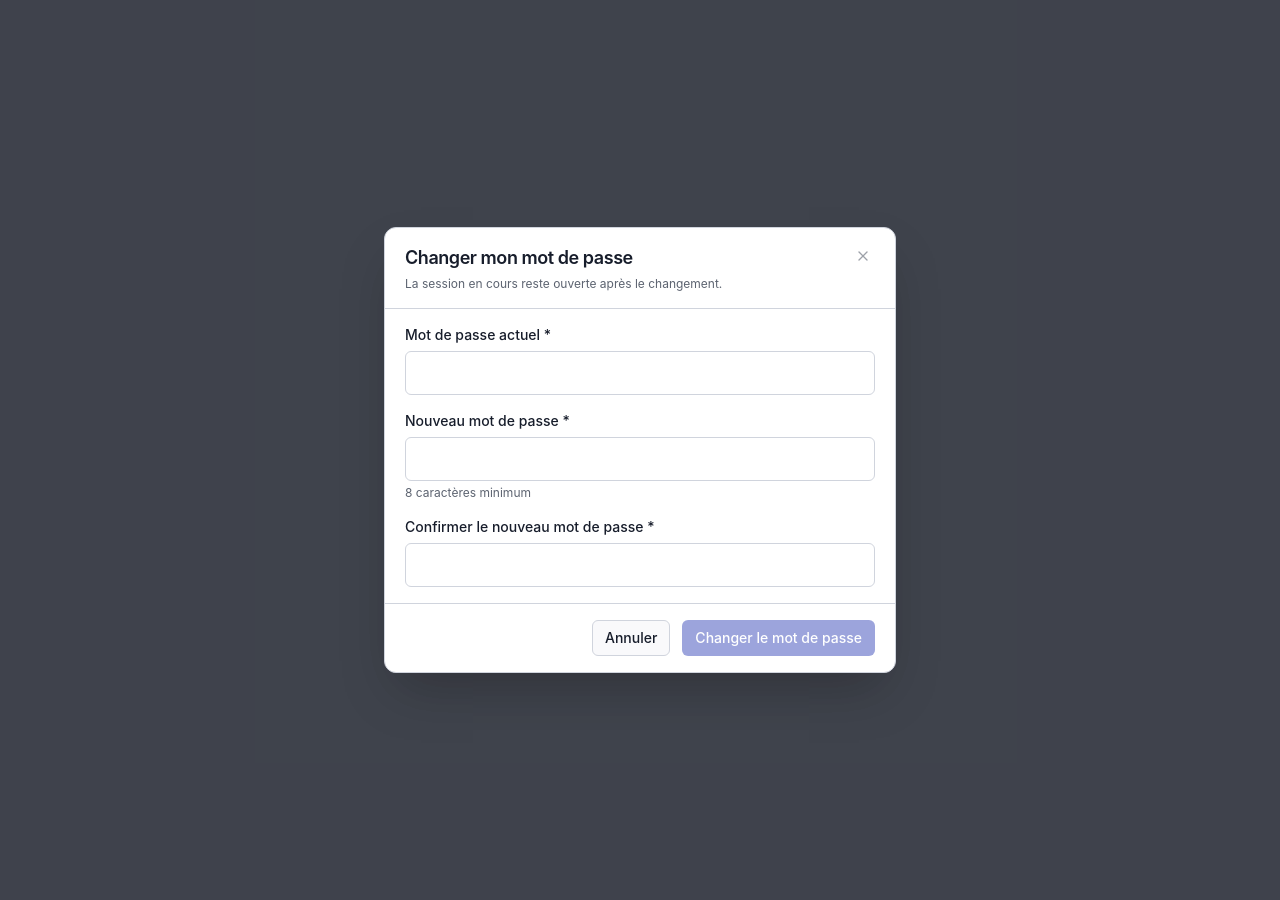
Test: ChangePasswordModal › se soumet avec les deux mots de passe et affiche la confirmation de succès
Type "ancienmdp" into the password field named "old-password" at (640, 373), box [405,351,875,395]
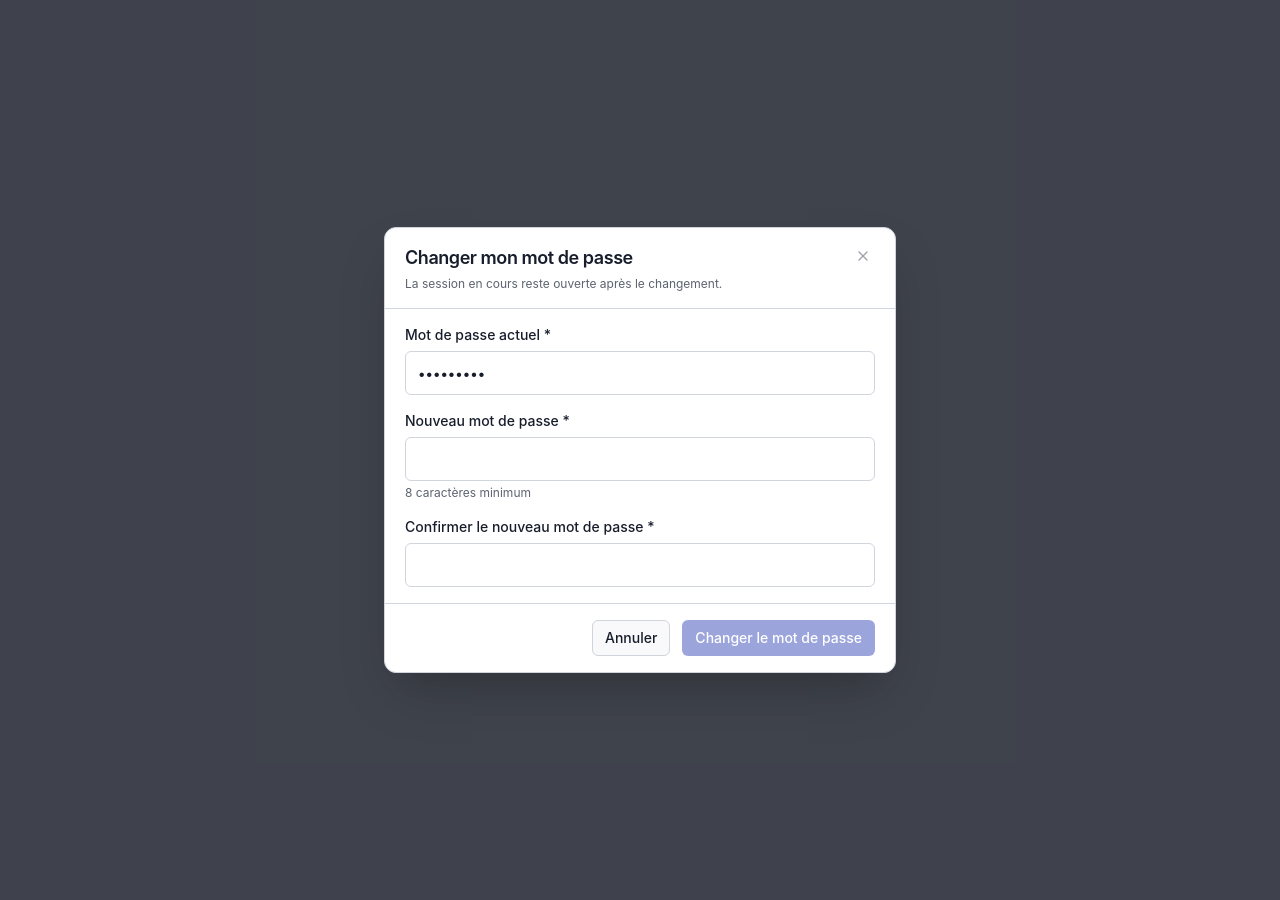
Type "nouveaumdp" into the password field named "new-password" at (640, 459), box [405,437,875,481]
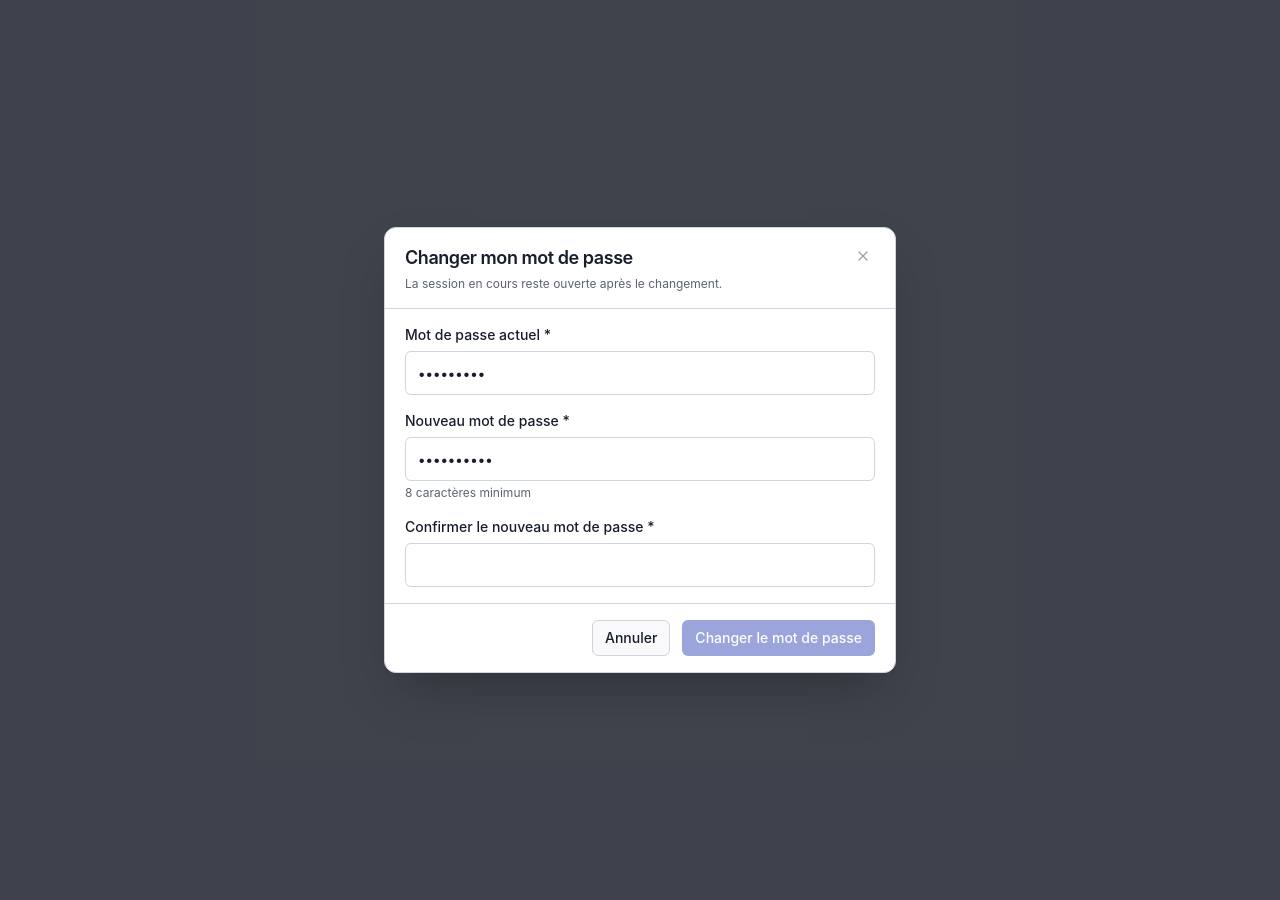
Type "nouveaumdp" into the password field named "confirm-password" at (640, 565), box [405,543,875,587]
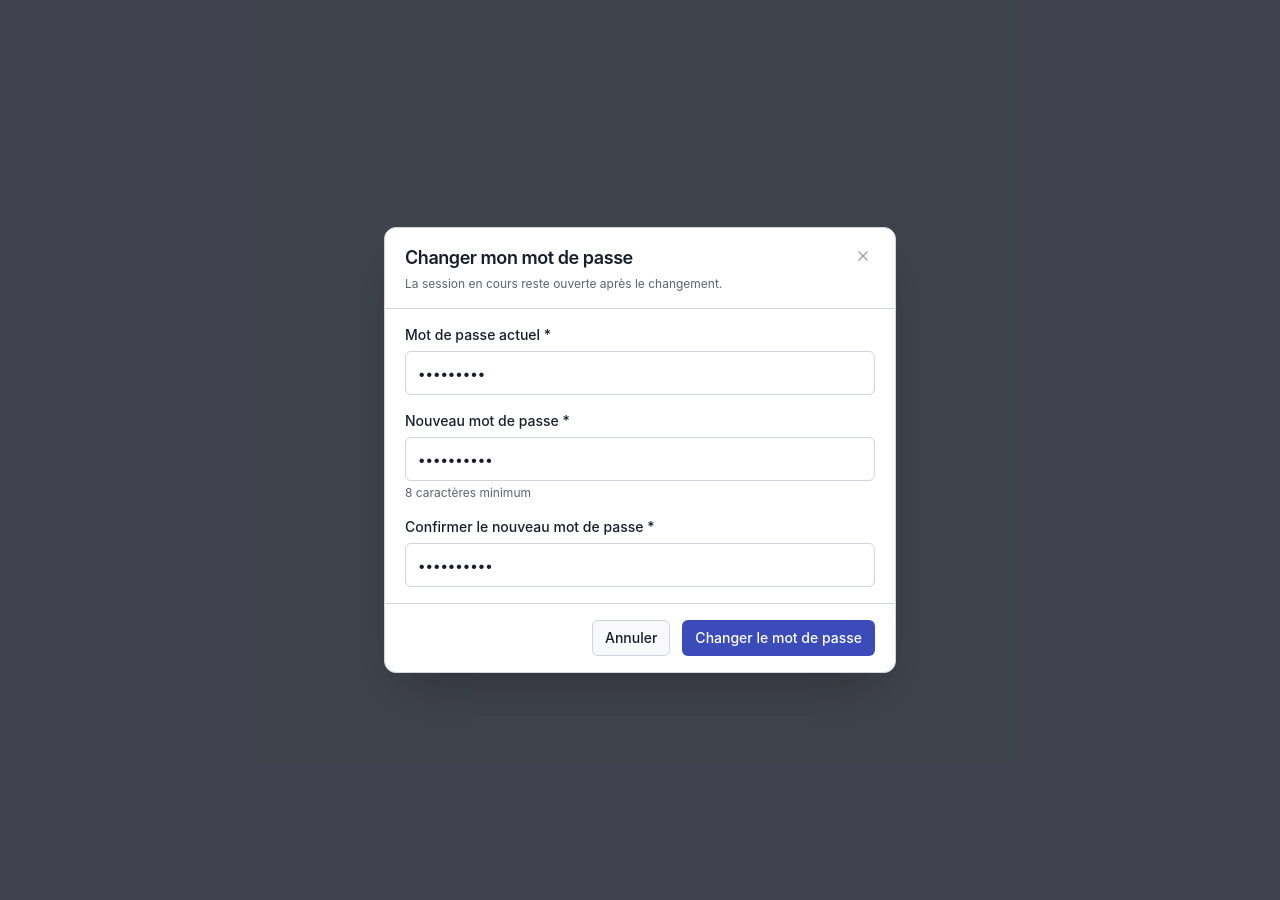
Submit the form with id "change-password", box [405,325,875,587]
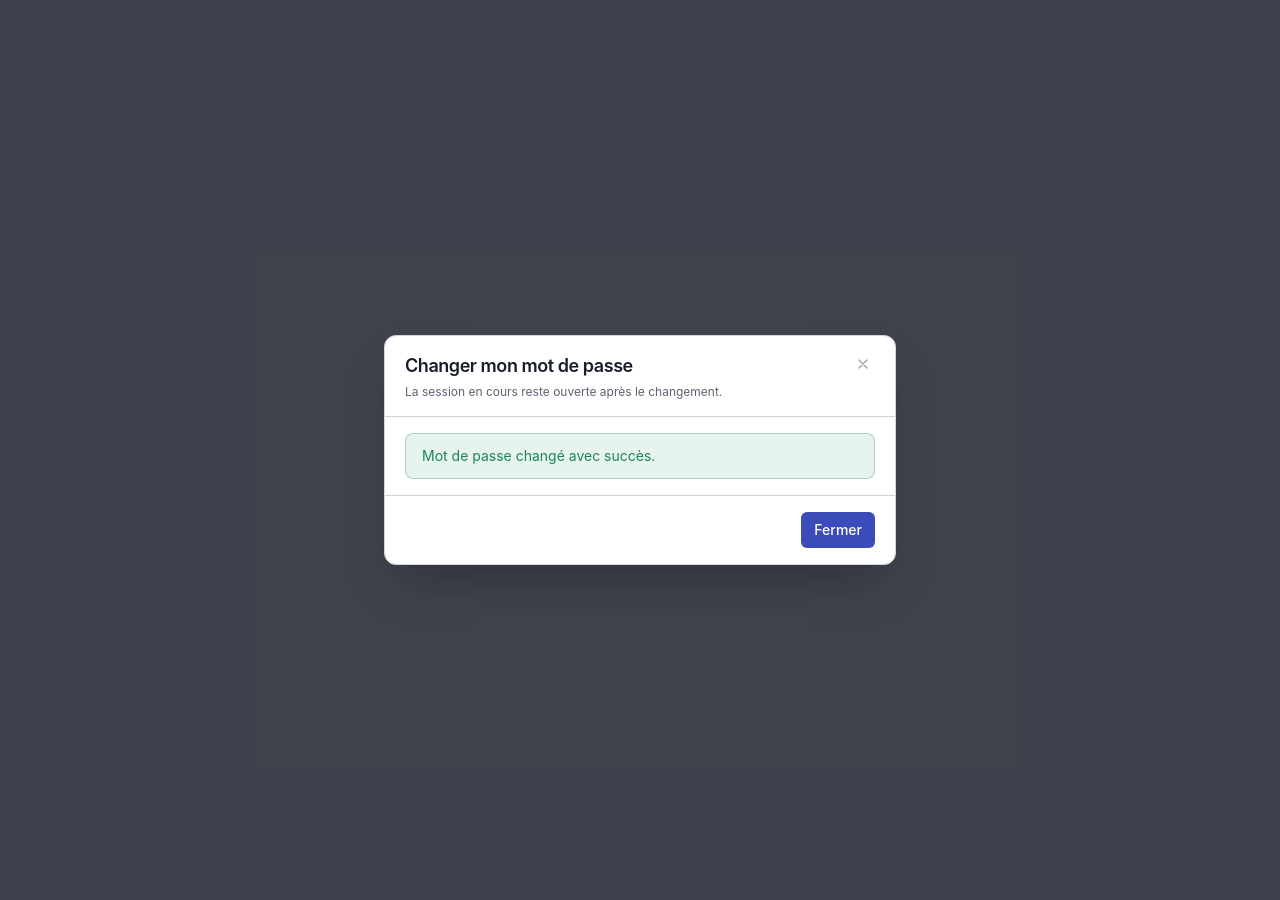
Expected: the text "changé avec succès" is shown, [422,447,655,464]
